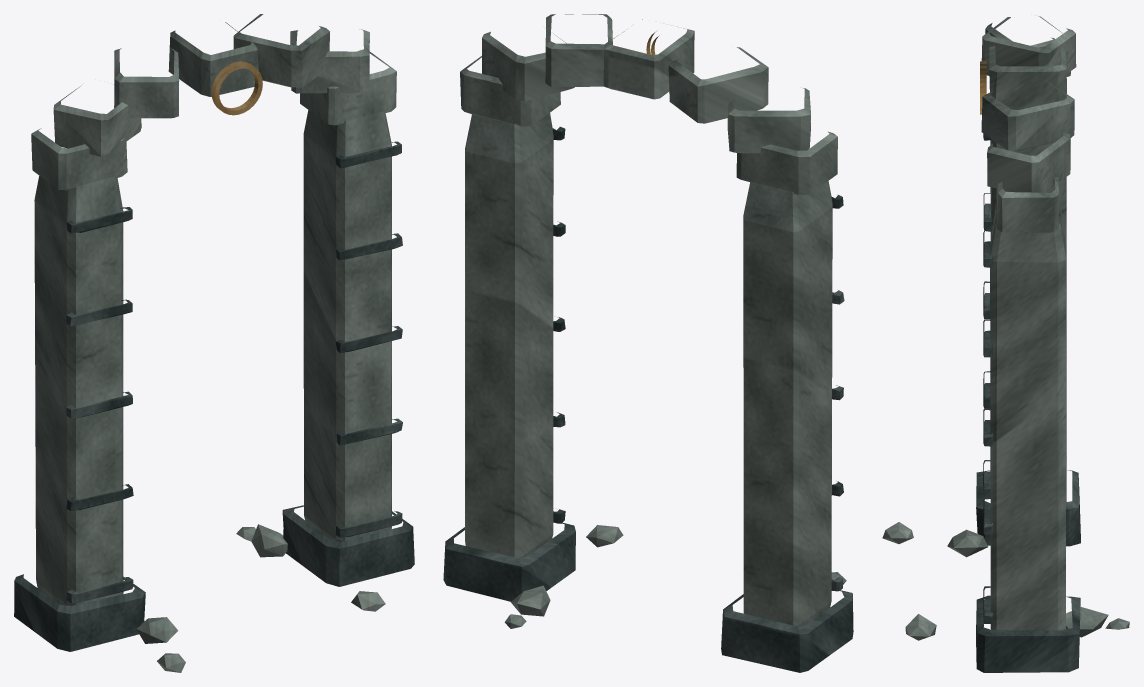
Rendered from 0304_archway_04.glb.
3 renders of one model, left to right at view 1: azimuth 30°, elevation 25°; view 2: azimuth 150°, elevation 25°; view 3: azimuth 270°, elevation 25°, orthographic. The views are drawn at different scales.
Parts seen in each view (by area): view 1: stone, stone_dark, brass; view 2: stone, stone_dark; view 3: stone, stone_dark.
Part boxes in pixels (x1,y1,x2,y2): stone: (31,14,396,672); stone_dark: (14,141,414,651); brass: (211,61,262,115); stone: (460,14,846,628); stone_dark: (443,126,853,672); stone: (882,16,1129,640); stone_dark: (976,133,1080,672).
Bounding box in the file's own units: 3.26 × 4.9 × 2.04.
3 materials, 3 textured.
